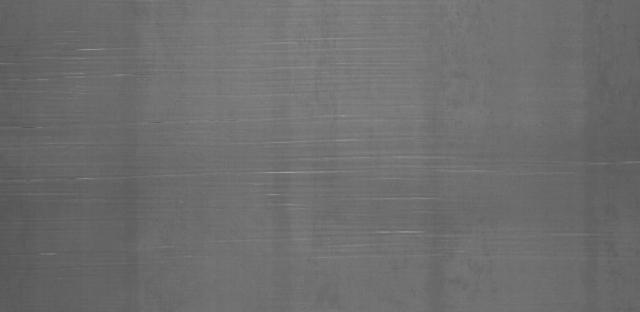waist_folding: (27, 21, 587, 286)
